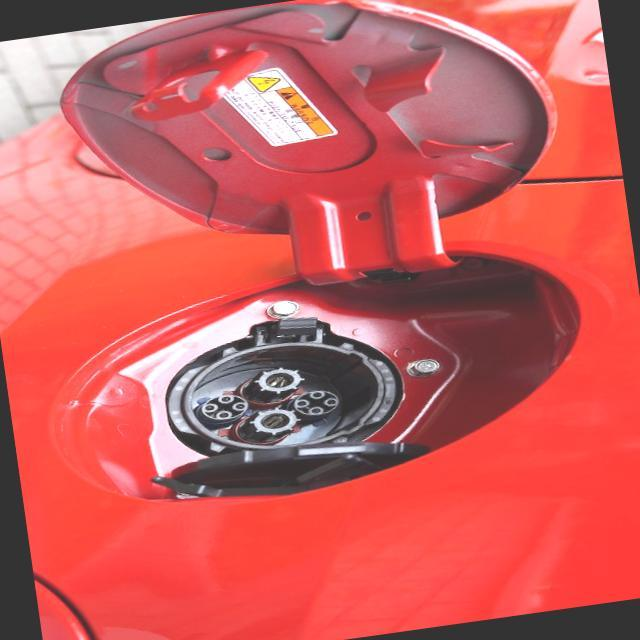CHAdeMO: (140, 312, 430, 479)
